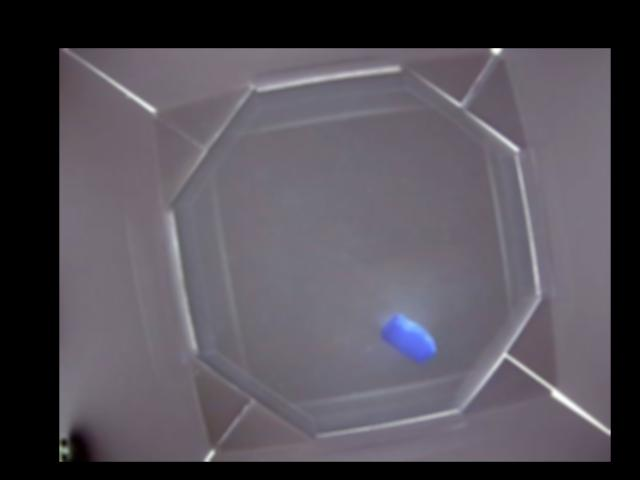Potato: (381, 315, 436, 361)
